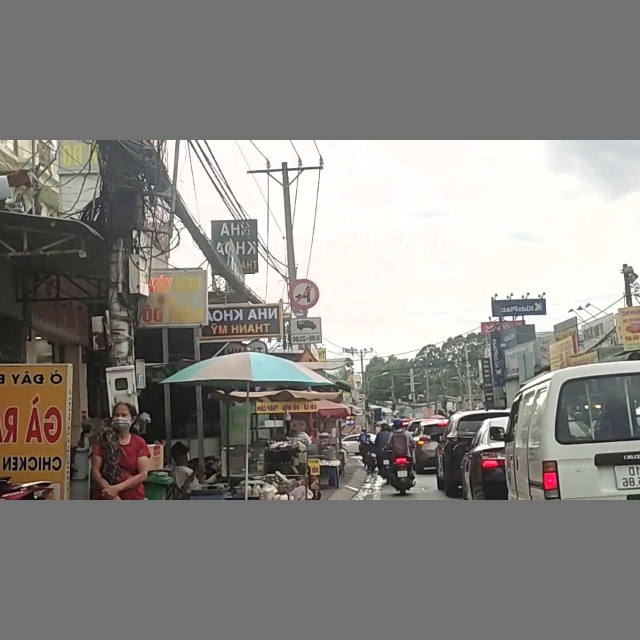P.139: (288, 279, 319, 309)
S.505a*Xe tai: (291, 318, 322, 341)
